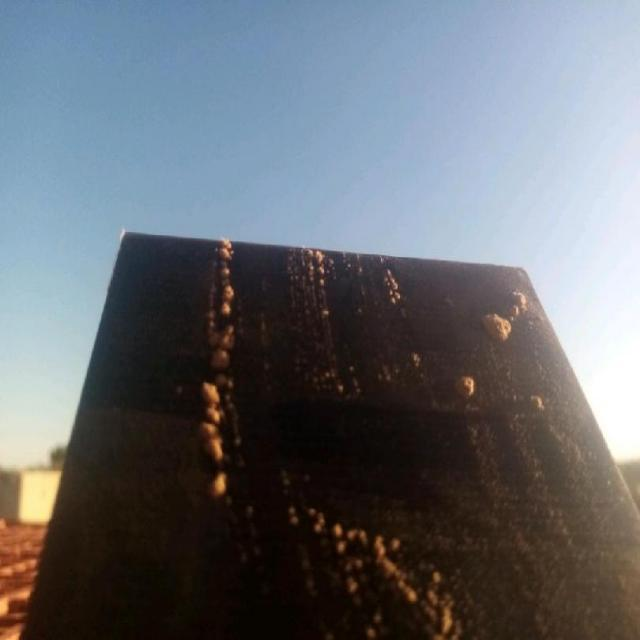faulty: (53, 250, 605, 640)
